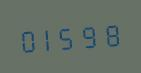eight: (102, 17, 122, 49)
five: (60, 20, 80, 52)
nine: (81, 19, 101, 50)
one: (39, 22, 59, 53)
zero: (18, 23, 38, 55)
